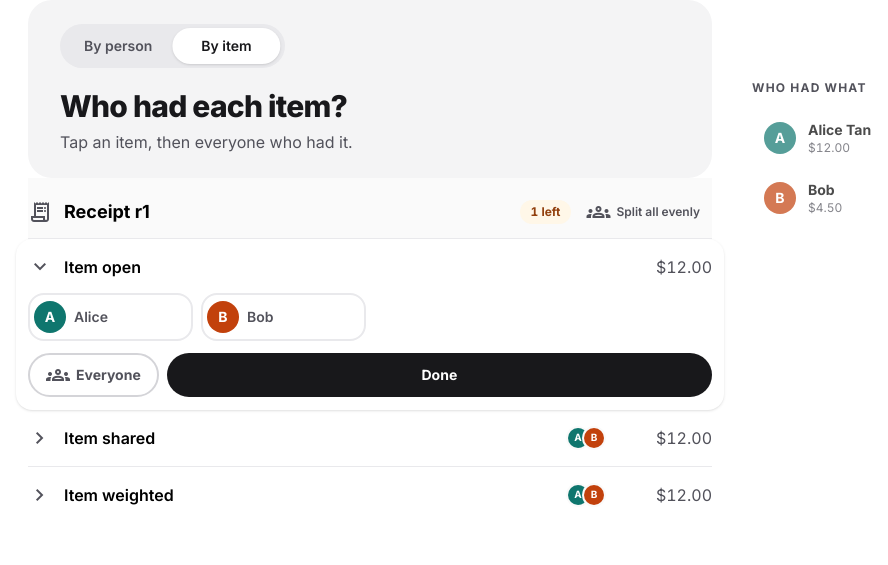
Test case: AssignStep › by item › says when an item has uneven shares instead of offering a stepper
This screenshot has width=888, height=565.
Click the button with test id "item-claim-toggle-weighted" at (119, 494), box [28,472,712,516]
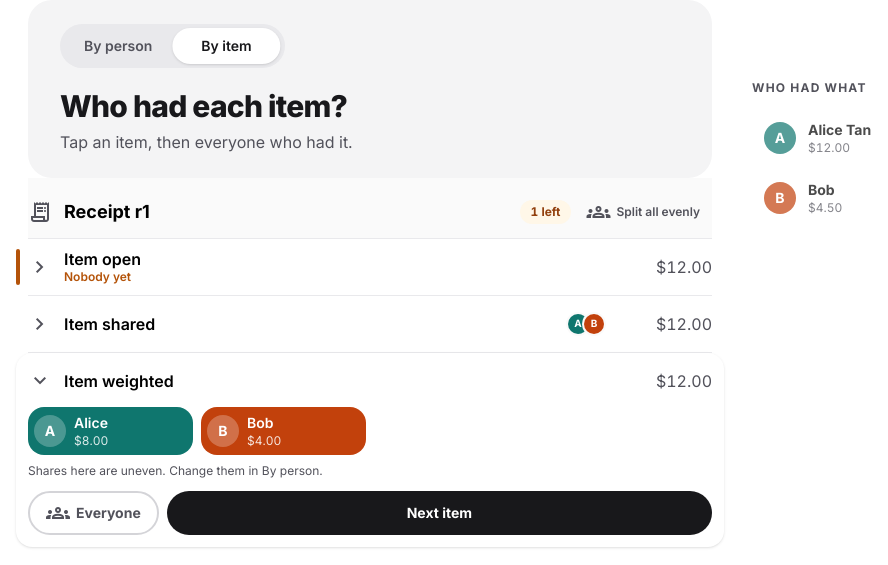
Result: the text "Shares here are uneven. Change them in By person." is shown at [28,462,323,478]
Result: the button with test id "item-claim-chip-weighted-p1" shows "$8.00" at [28,406,193,454]
